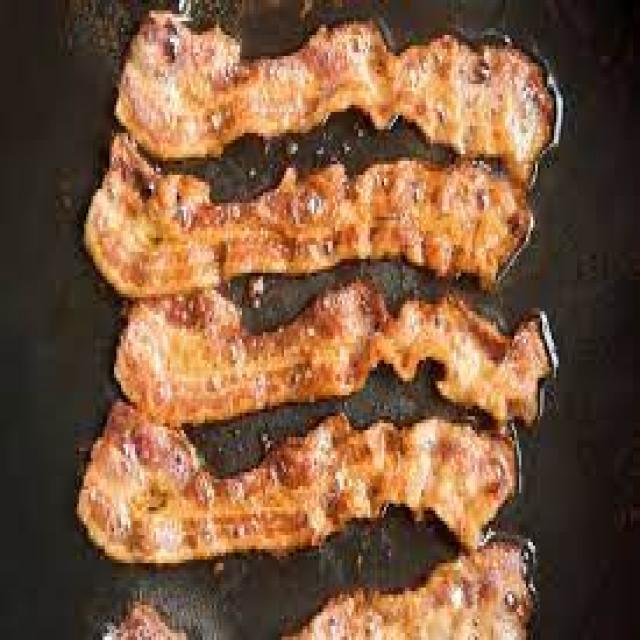bacon: (62, 2, 572, 640)
